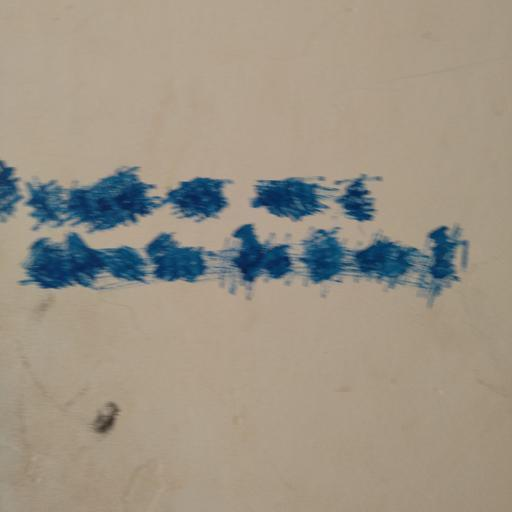stain: (0, 144, 502, 320), (74, 378, 139, 448)
